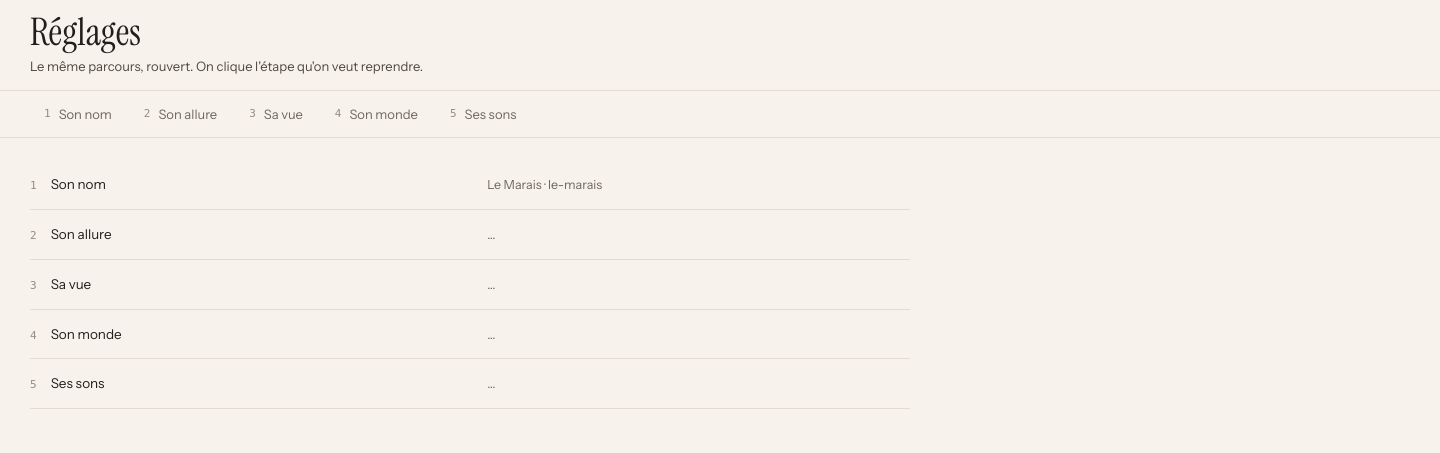
les cases que l'atelier écrit seul › le rendu et la vue ne sont pas des champs — ils renvoient à leur étape
(page scrolled)
Click the button "4 Son monde".
click(376, 114)  # box x1=321 y1=99 x2=432 y2=129
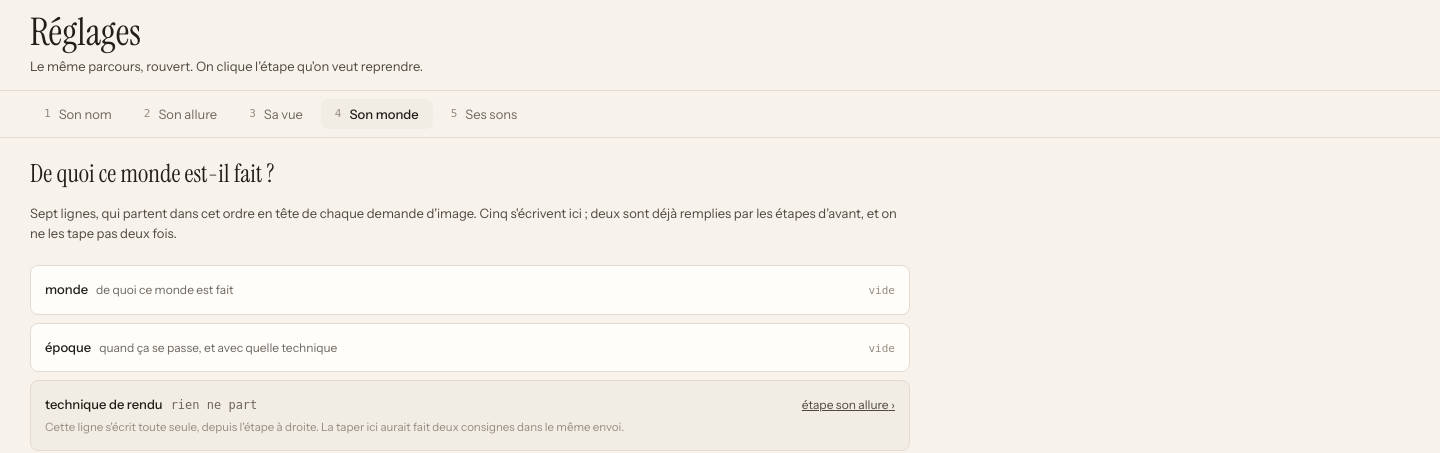
Expected: the button "monde de quoi ce monde est fait vide" is shown, x1=45 y1=280 x2=895 y2=300
Expected: the button "étape son allure ›" is shown, x1=802 y1=396 x2=895 y2=414
